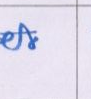i_matra: (21, 23, 37, 49)
